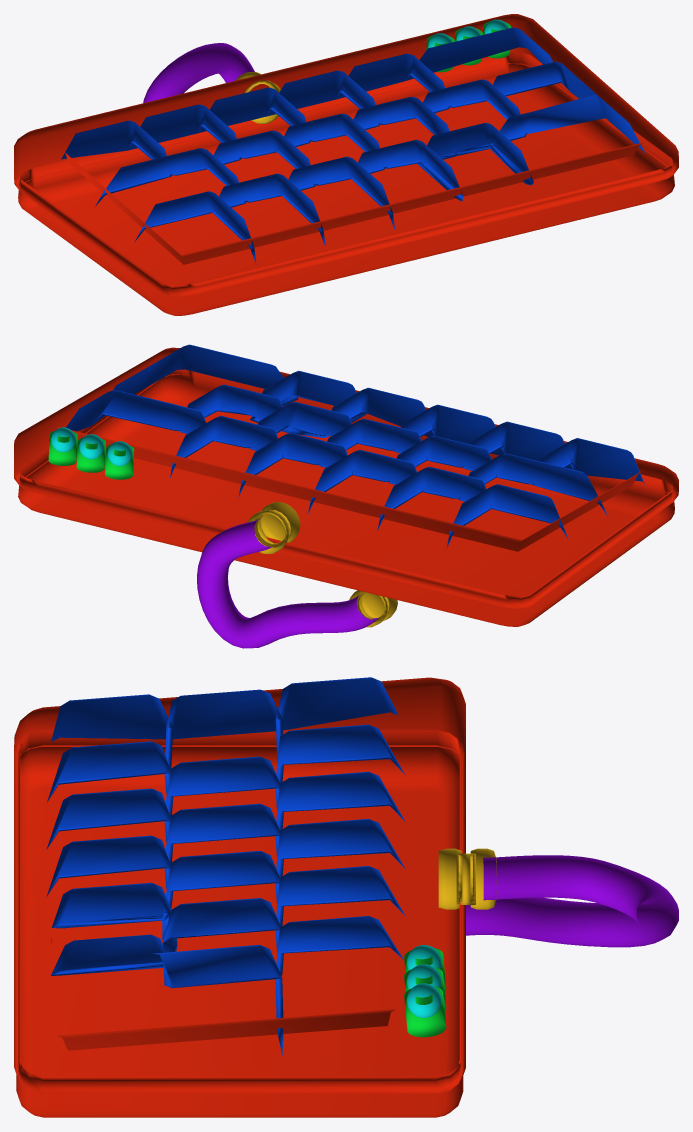
Rendered from keyboardShadow.gltf.
The picture shows the model from 3 angles, top to bottom: view 1: azimuth 30°, elevation 25°; view 2: azimuth 150°, elevation 25°; view 3: azimuth 270°, elevation 25°; orthographic projection. The views are drawn at different scales.
Parts seen in each view (by area): view 1: light1Outline; view 2: light1Outline; view 3: light1Outline.
Part boxes in pixels (box(x1,y1,x2,y2)): light1Outline: box(14, 14, 678, 315); light1Outline: box(14, 344, 678, 648); light1Outline: box(14, 677, 678, 1117).
Bounding box in the file's own units: 14.98 × 3.58 × 11.93.
